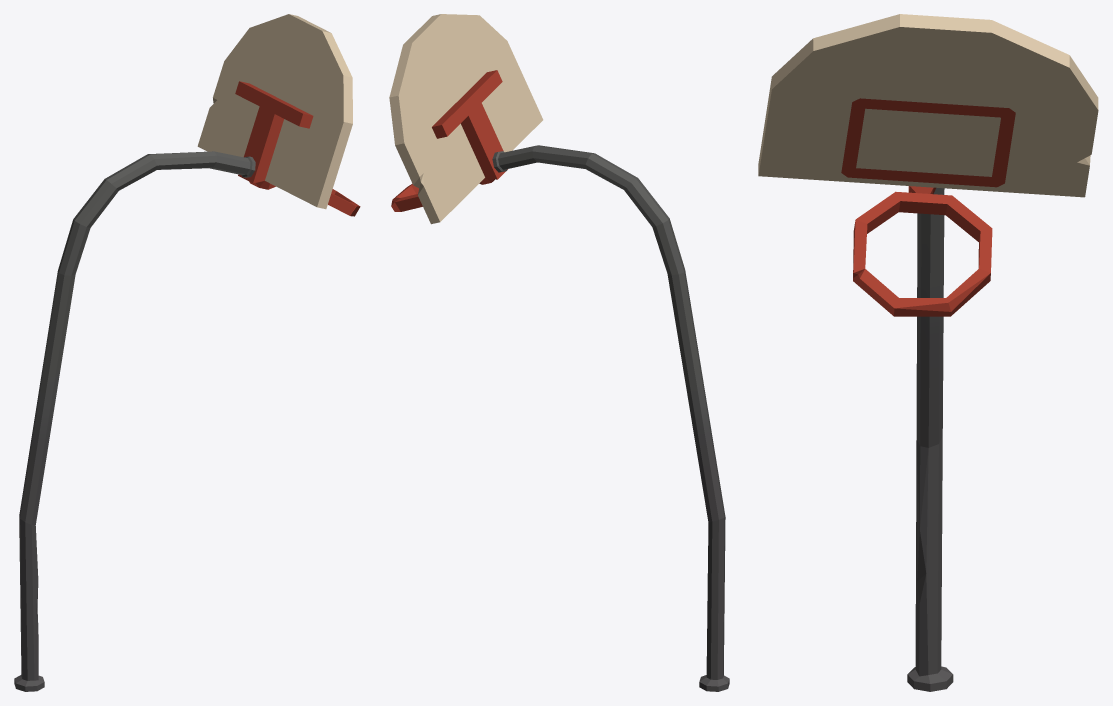
The model's file is apoc_SM_Prop_Backetball_Hoop_02.gltf.
3 views of the same model, side by side, from view 1: azimuth 30°, elevation 25°; view 2: azimuth 150°, elevation 25°; view 3: azimuth 270°, elevation 25° (orthographic). The views are drawn at different scales.
Visible parts, largest first — view 1: SM_Prop_Backetball_Hoop_02; view 2: SM_Prop_Backetball_Hoop_02; view 3: SM_Prop_Backetball_Hoop_02.
Part boxes in pixels (x1,y1,x2,y2): SM_Prop_Backetball_Hoop_02: [14, 14, 360, 691]; SM_Prop_Backetball_Hoop_02: [389, 14, 729, 691]; SM_Prop_Backetball_Hoop_02: [758, 14, 1098, 691].
Size of the model in its own units: 2.13 by 3.63 by 1.28.
1 material, 1 textured.
